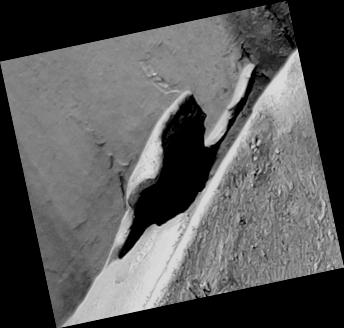crack: (1, 0, 344, 328)
